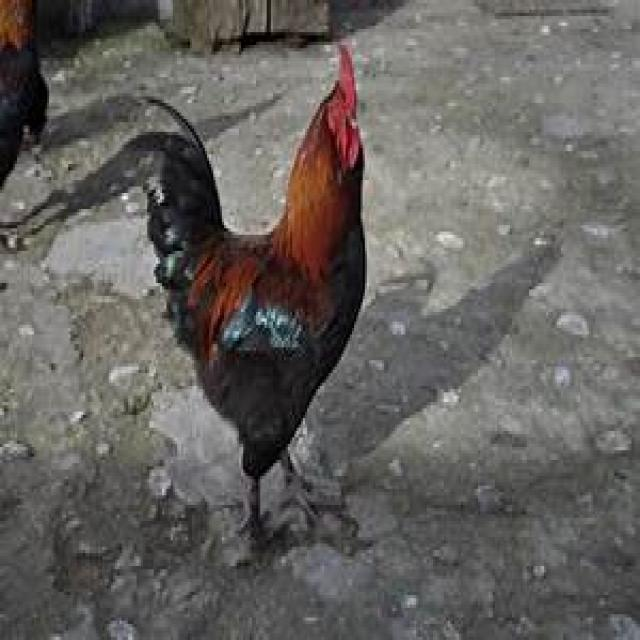animal: (2, 39, 367, 556)
